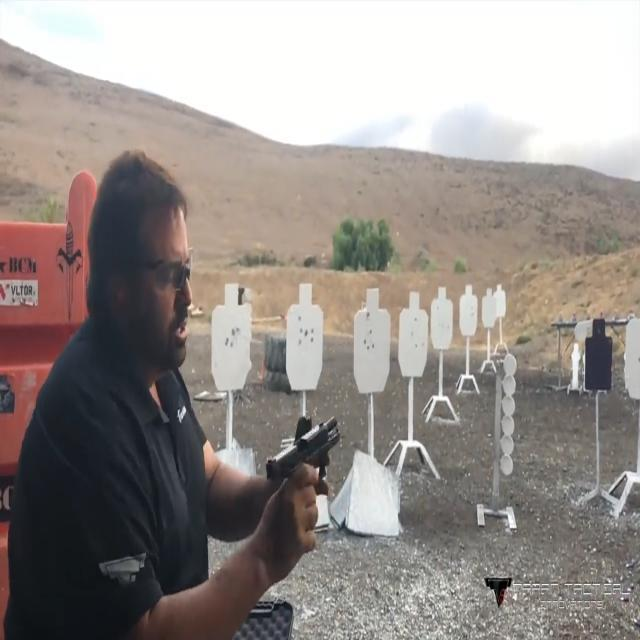Handgun: (264, 406, 346, 566)
